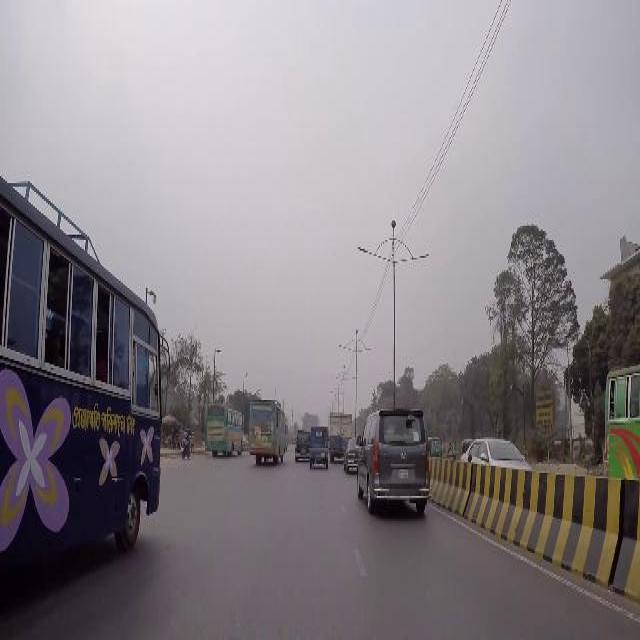bus: (0, 162, 170, 567), (603, 363, 639, 480), (248, 398, 286, 462), (204, 404, 243, 454)
car: (459, 436, 533, 478)
minivan: (356, 407, 432, 517)
motorbike: (181, 423, 191, 459)
pickup: (328, 410, 352, 460), (308, 424, 328, 468)
suv: (294, 427, 310, 465)
three wheelers -CNG-: (426, 434, 442, 458)
